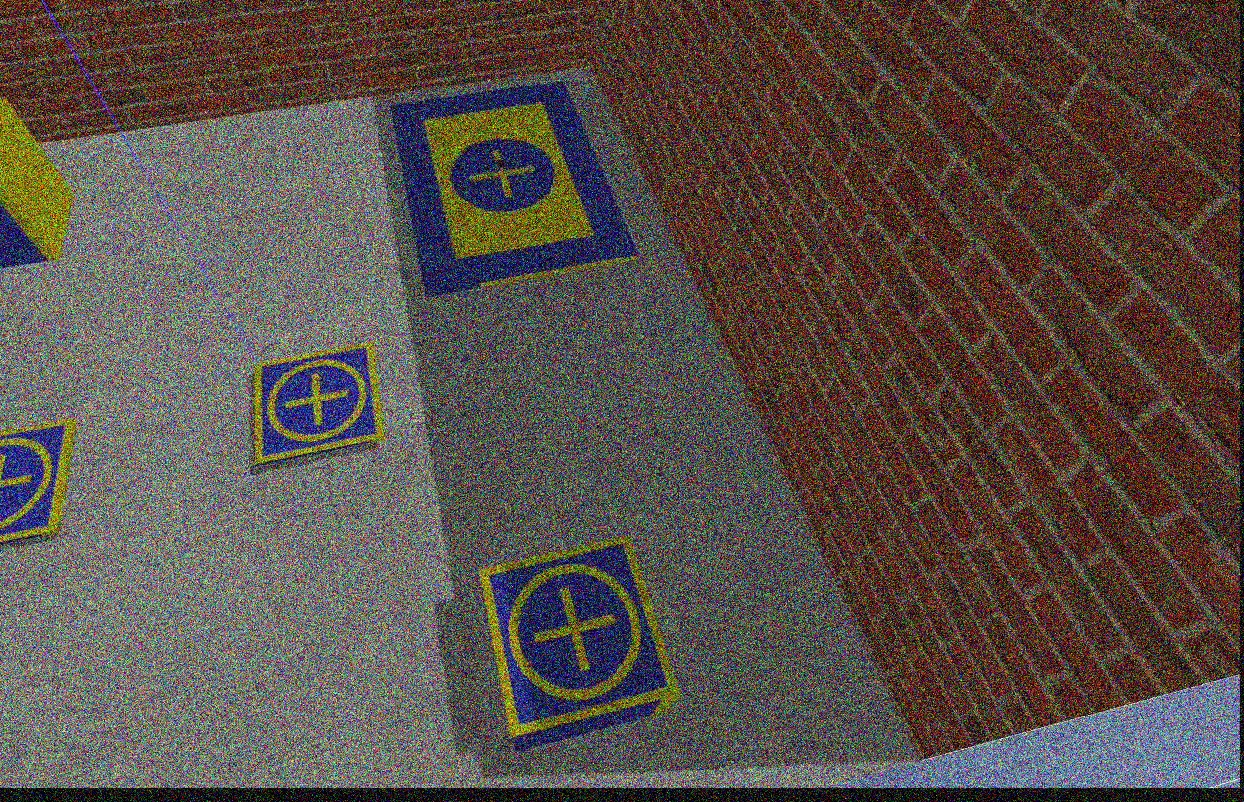large_base: (389, 83, 643, 299)
small_base: (482, 540, 683, 740), (249, 340, 383, 471), (0, 419, 78, 549)
